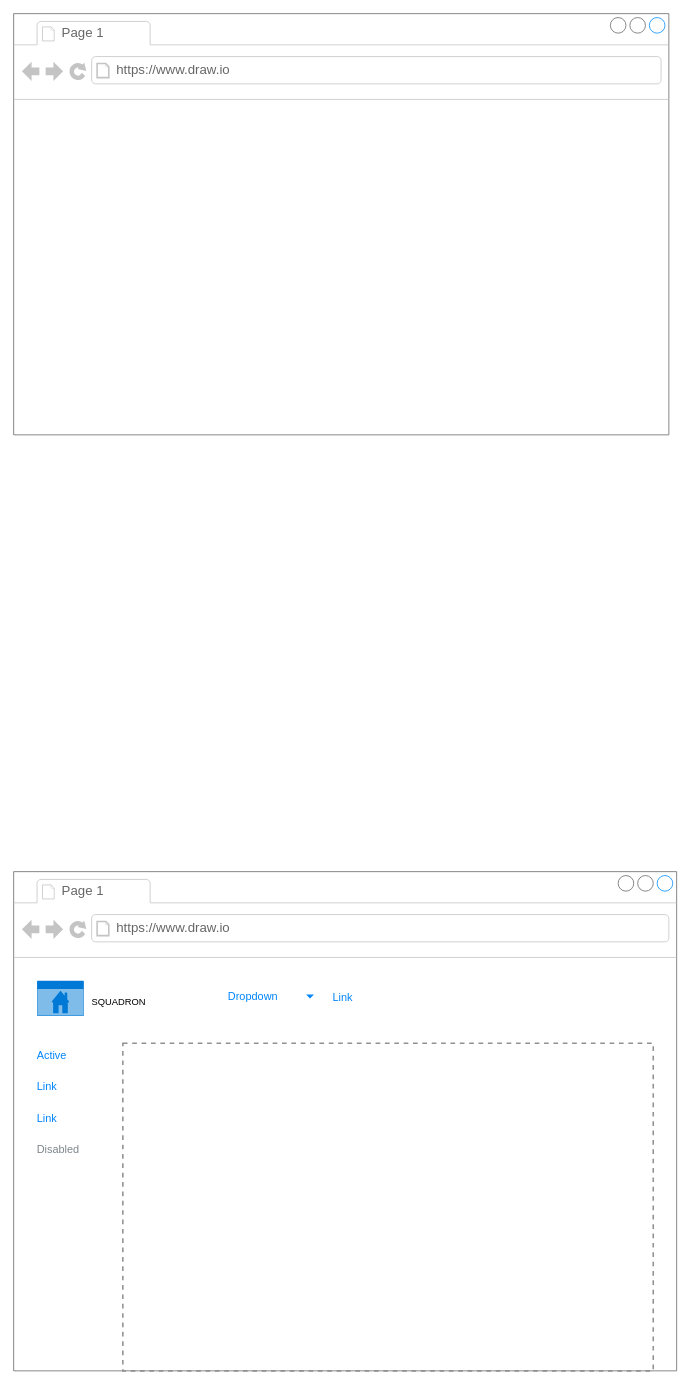
Some shapes in this 690 by 1385 pixel diagram are drawn without their labels. Here are the shapes that lost their labels. From the top down, the centre of each, then its label:
the point at 60,998: Home
the point at 388,1206: Resource Group
